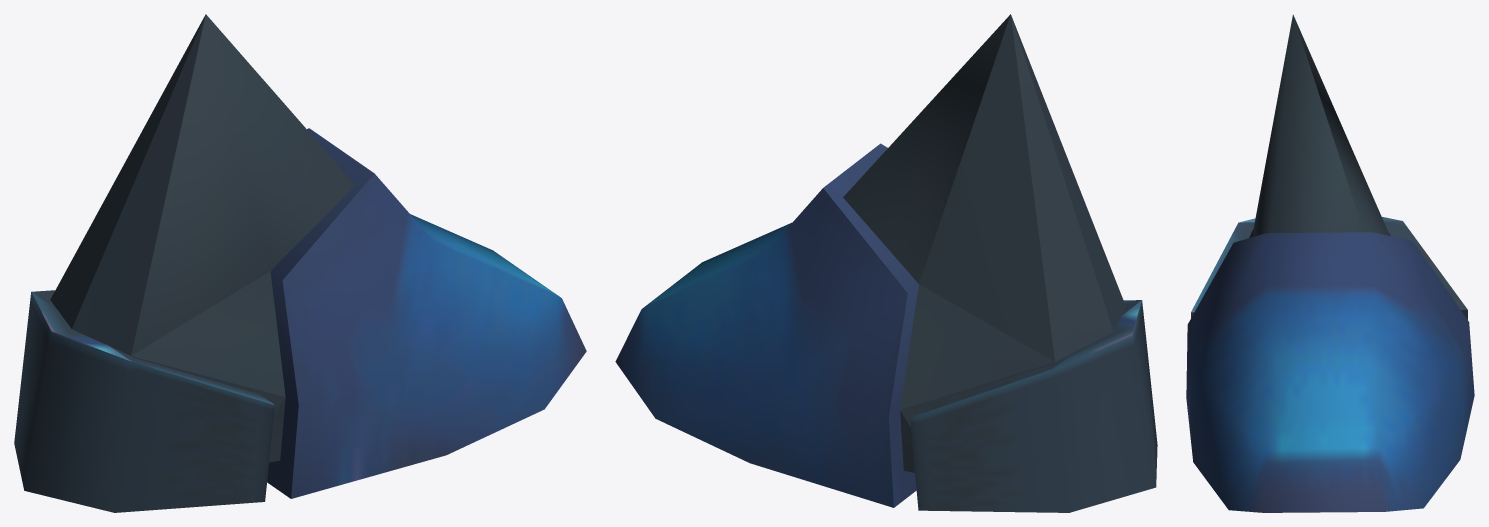
File: megamanX_pieI.obj
3 renders of one model, left to right at view 1: azimuth 30°, elevation 25°; view 2: azimuth 150°, elevation 25°; view 3: azimuth 270°, elevation 25°, orthographic. The views are drawn at different scales.
Visible parts, largest first — view 1: Pierna_izquierda005, Pierna_izquierda004, Pierna_izquierda006, Pierna_izquierda007; view 2: Pierna_izquierda005, Pierna_izquierda007, Pierna_izquierda004, Pierna_izquierda006; view 3: Pierna_izquierda005, Pierna_izquierda006, Pierna_izquierda004.
Part boxes in pixels (x1,y1,x2,y2): Pierna_izquierda005: (267,128,586,498); Pierna_izquierda004: (14,290,274,512); Pierna_izquierda006: (131,14,355,355); Pierna_izquierda007: (50,15,285,462); Pierna_izquierda005: (615,143,918,507); Pierna_izquierda007: (900,14,1125,472); Pierna_izquierda004: (910,300,1157,512); Pierna_izquierda006: (843,14,1010,283); Pierna_izquierda005: (1186,232,1474,512); Pierna_izquierda006: (1253,14,1389,236); Pierna_izquierda004: (1191,217,1467,319).
Bounding box in the file's own units: 2.59 × 2.08 × 1.44.
